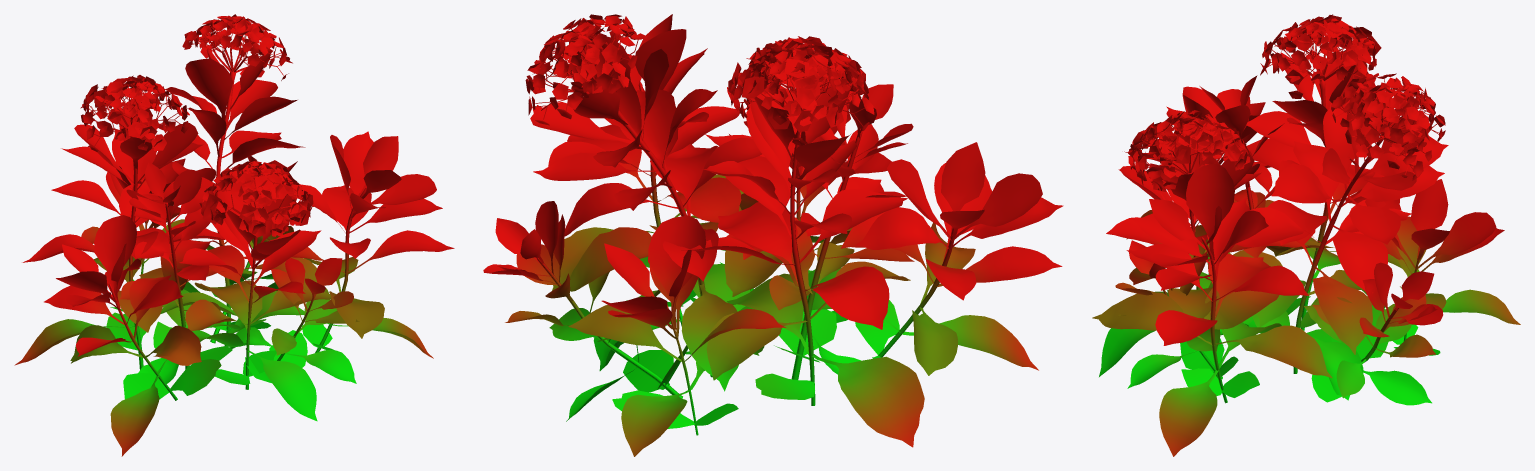
Rendered from Var6_LOD0.fbx.
3 views of the same model, side by side, from view 1: azimuth 30°, elevation 25°; view 2: azimuth 150°, elevation 25°; view 3: azimuth 270°, elevation 25° (orthographic). The views are drawn at different scales.
Parts seen in each view (by area): view 1: _d5qo_Var6_LOD0; view 2: _d5qo_Var6_LOD0; view 3: _d5qo_Var6_LOD0.
Boxes of the visible parts, x1,y1,x2,y2 form: _d5qo_Var6_LOD0: (14, 14, 454, 456); _d5qo_Var6_LOD0: (483, 14, 1063, 456); _d5qo_Var6_LOD0: (1092, 14, 1520, 456).
Bounding box in the file's own units: 78.38 × 58.71 × 69.99.
